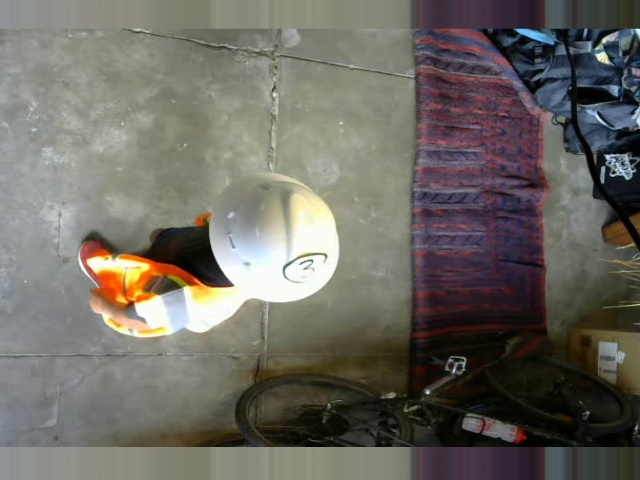three: (283, 253, 326, 281)
